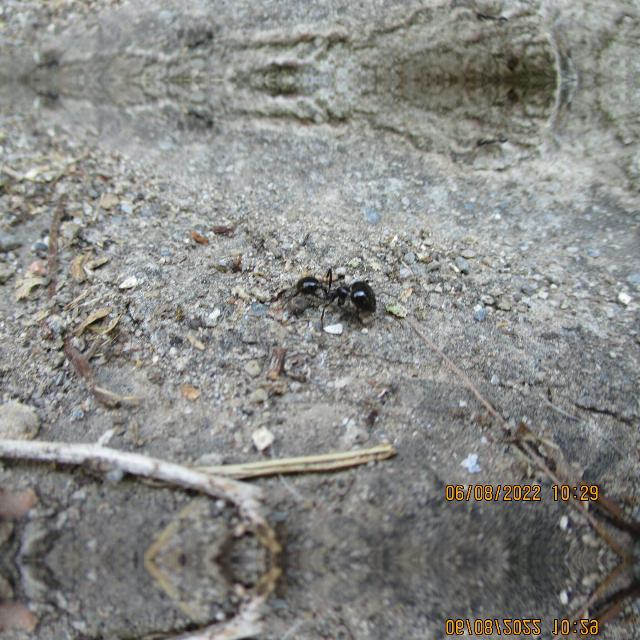Messor: (285, 264, 379, 330)
